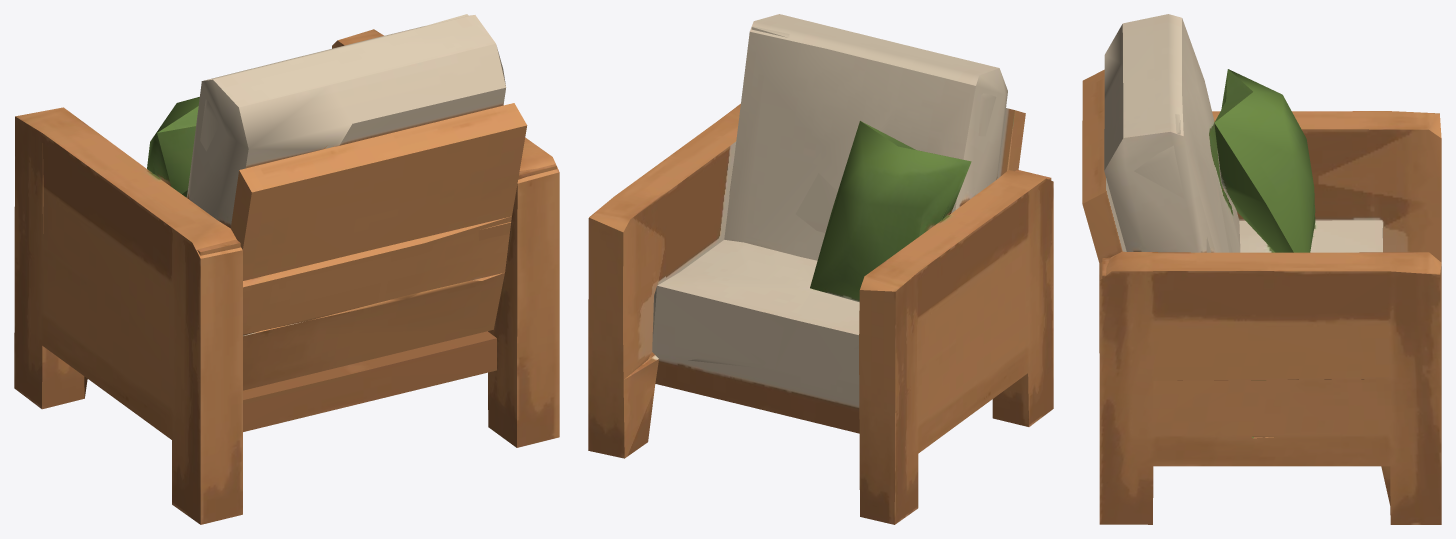
File: seat_reading-chair_v2.glb
3 views of the same model, side by side, from view 1: azimuth 30°, elevation 25°; view 2: azimuth 150°, elevation 25°; view 3: azimuth 270°, elevation 25° (orthographic). The views are drawn at different scales.
Parts seen in each view (by area): view 1: body; view 2: body; view 3: body.
Boxes of the visible parts, left/top/right/bottom form: body: left=14, top=14, right=559, bottom=524; body: left=588, top=14, right=1053, bottom=524; body: left=1082, top=14, right=1441, bottom=524.
Size of the model in its own units: 0.8589 by 0.9291 by 0.8109.
Materials: 1 (1 with a texture image).
